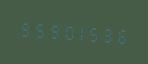five: (87, 20, 100, 45), (31, 17, 44, 41)
nine: (17, 16, 30, 40), (45, 18, 58, 42)
one: (73, 19, 86, 44)
six: (115, 22, 128, 47)
three: (101, 21, 114, 46)
zero: (59, 19, 72, 43)
